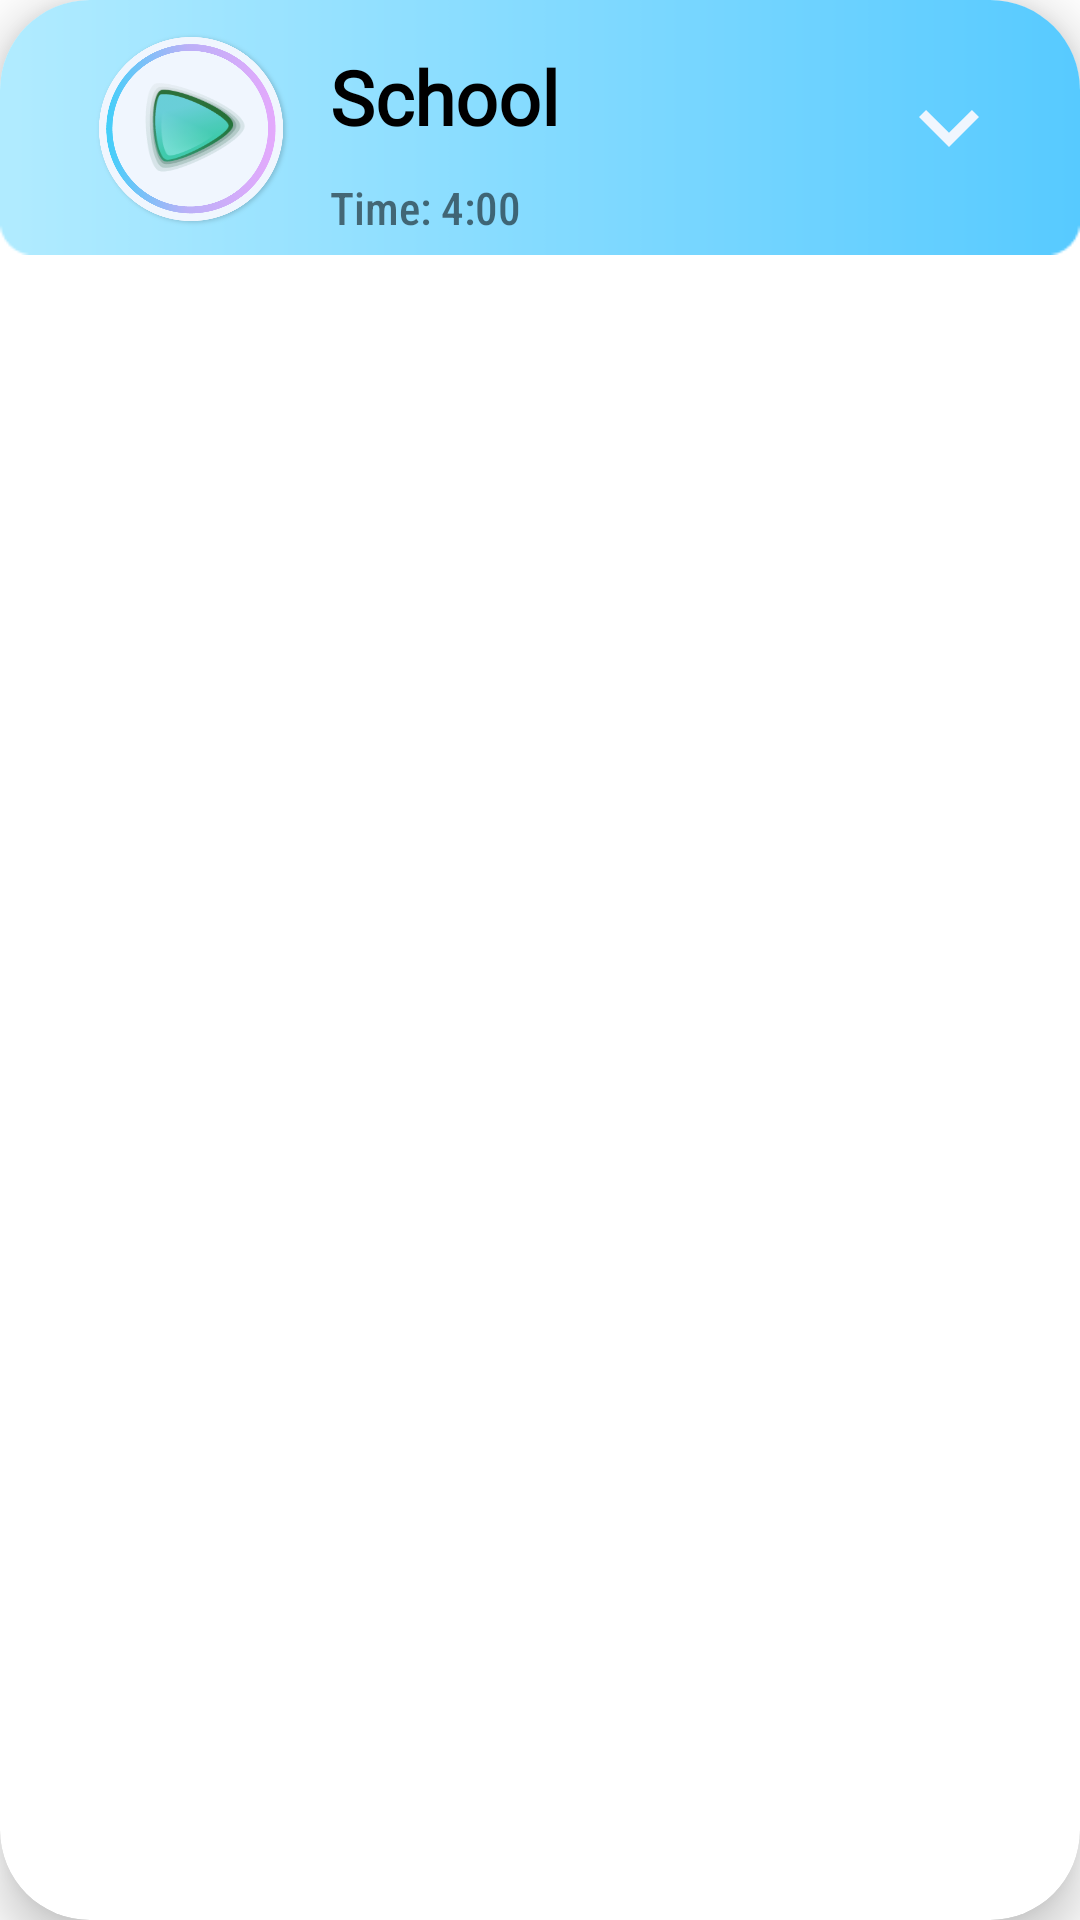

Icons on this 1080 × 1920 Android screen, each with the point to tap as [x,y]:
expand: [949,128]
